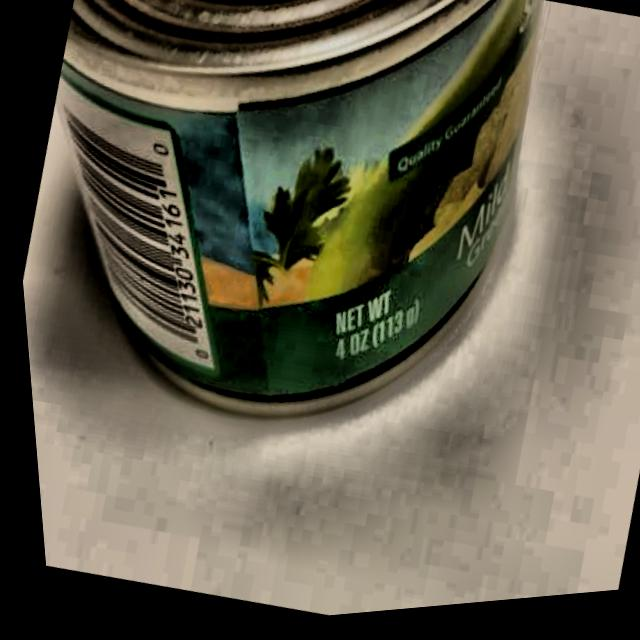Cans: (0, 0, 599, 534)
